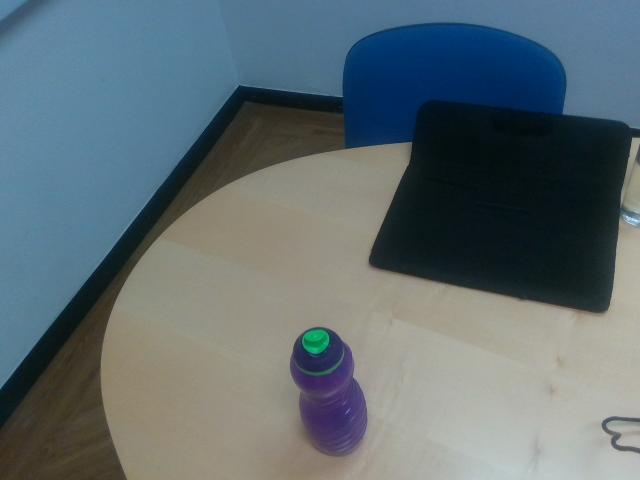bottle: (287, 326, 368, 458)
